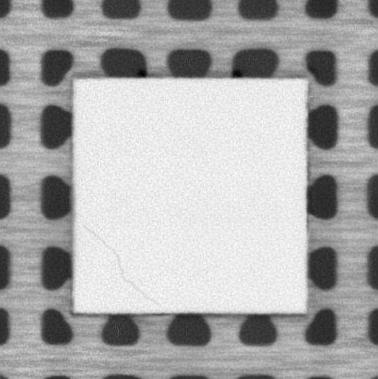DIE_CRACK: (83, 225, 159, 307)
